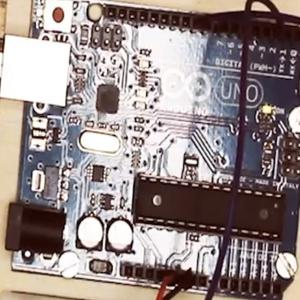duino: (11, 1, 297, 287)
